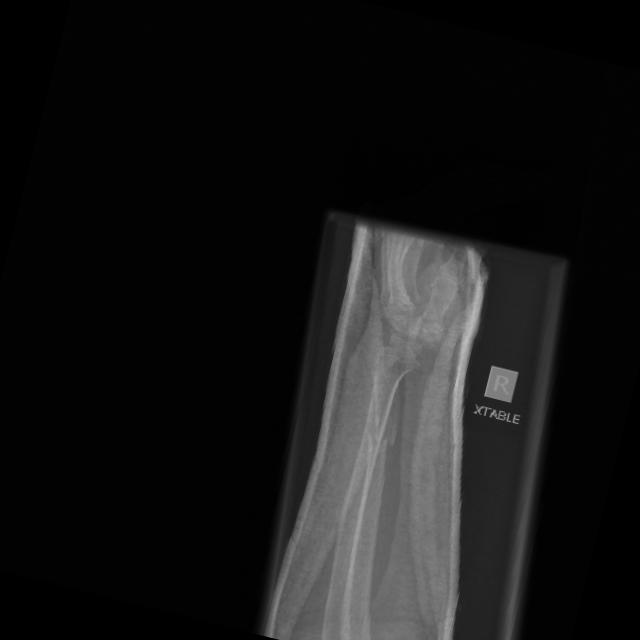forearm fracture: (338, 395, 423, 480)
